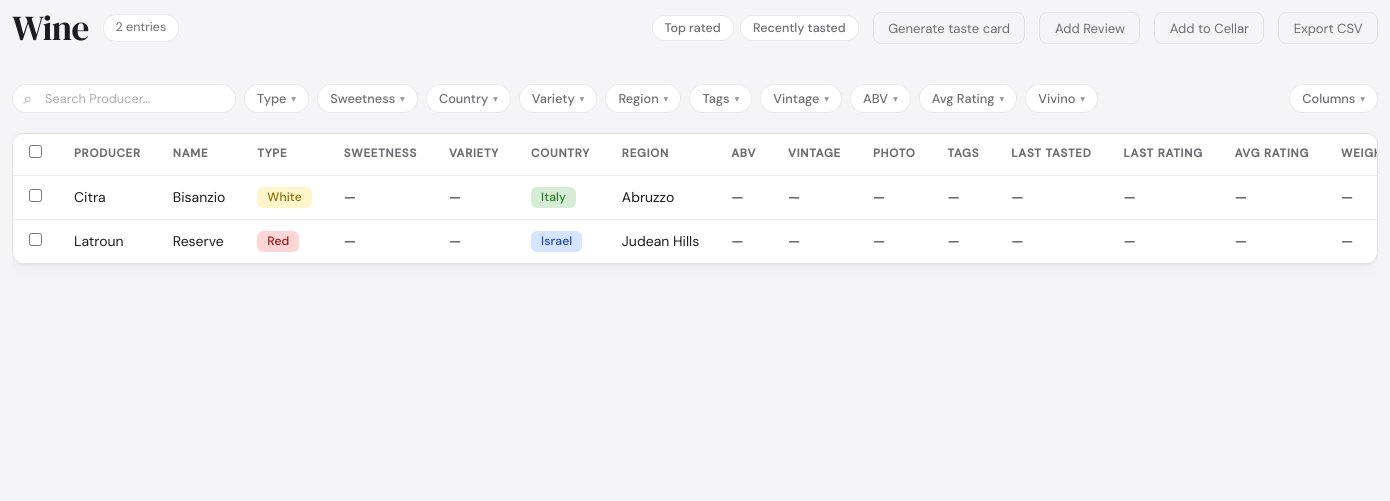
clicking an already-selected row checkbox deselects it
This screenshot has width=1390, height=501.
Expected: the text "Bisanzio" is shown, 157,176 -> 241,220
Click the checkbox named "Select row 1". click: x=36, y=196
box: 29,189 -> 42,202
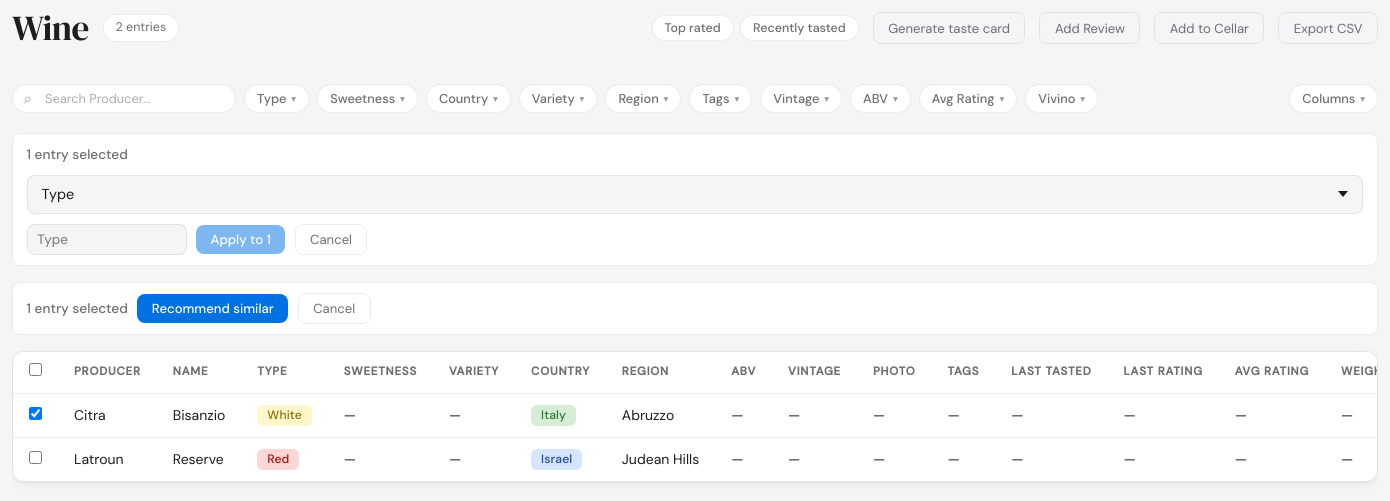
Expected: the 1st text "1 entry selected" is shown, 27,144 -> 128,165
Click the checkbox named "Select row 1". click: x=36, y=414
box: 29,407 -> 42,420
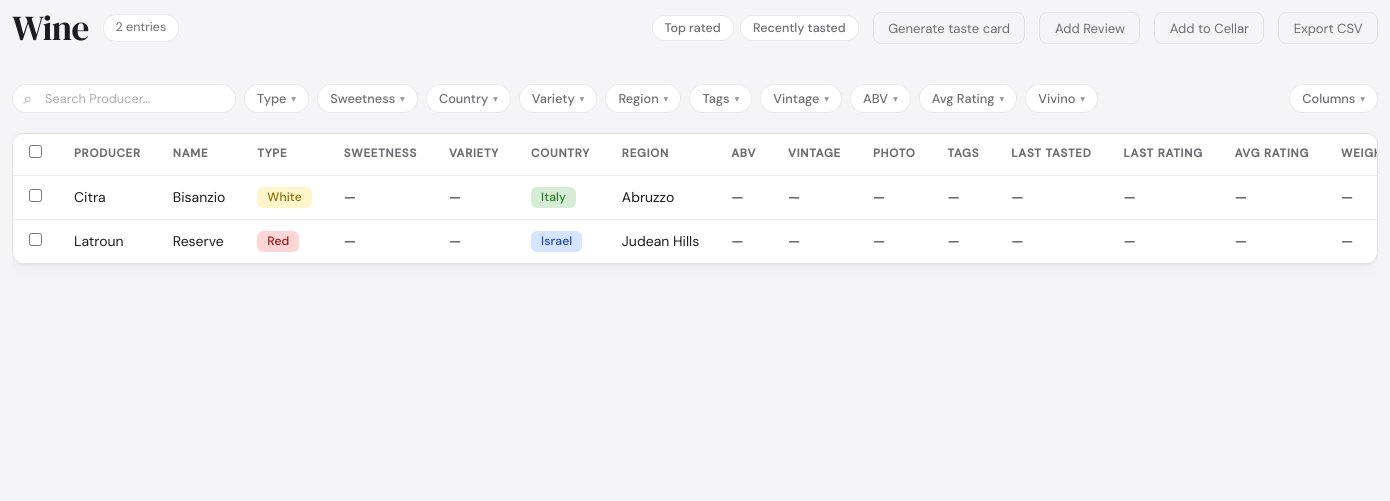
Expected: the element with test id "bulk-edit-bar" is gone
